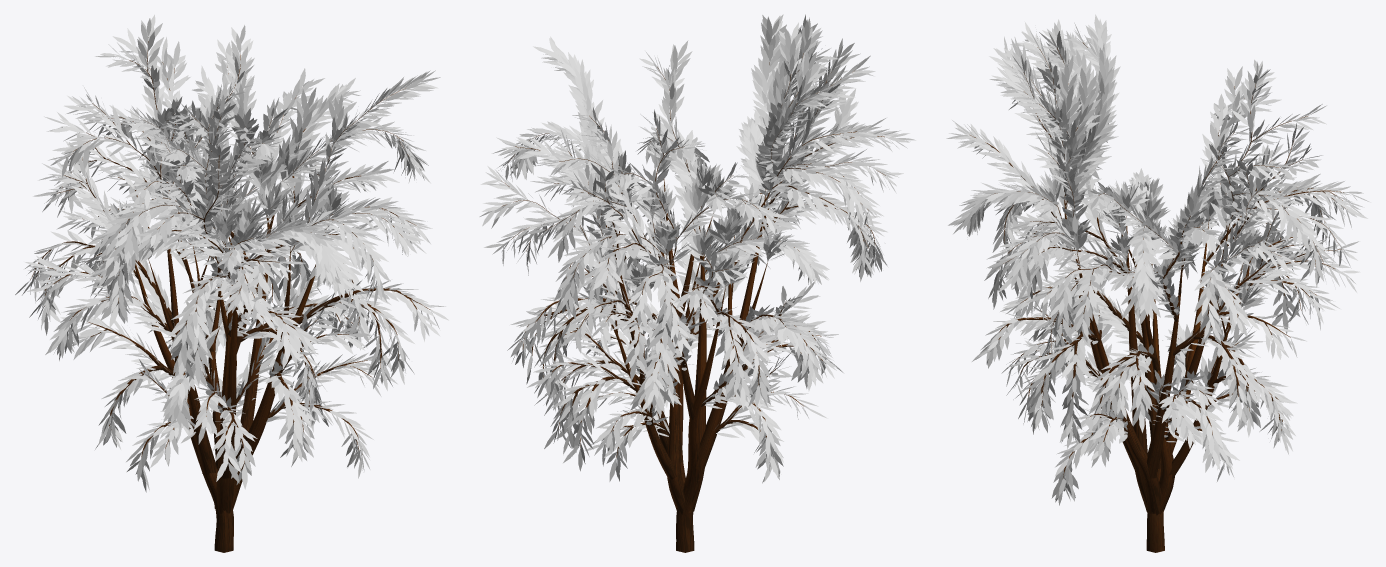
File: tree_1.glb
3 views of the same model, side by side, from view 1: azimuth 30°, elevation 25°; view 2: azimuth 150°, elevation 25°; view 3: azimuth 270°, elevation 25° (orthographic). The views are drawn at different scales.
Parts seen in each view (by area): view 1: leaves, tree; view 2: leaves, tree; view 3: leaves, tree.
Part boxes in pixels (x1,y1,x2,y2): leaves: (15,14,448,492); tree: (30,37,430,552); leaves: (479,14,915,483); tree: (502,53,885,552); leaves: (946,14,1370,505); tree: (970,42,1345,552).
Size of the model in its own units: 4.24 by 5.62 by 4.4.
2 materials, 1 textured.
